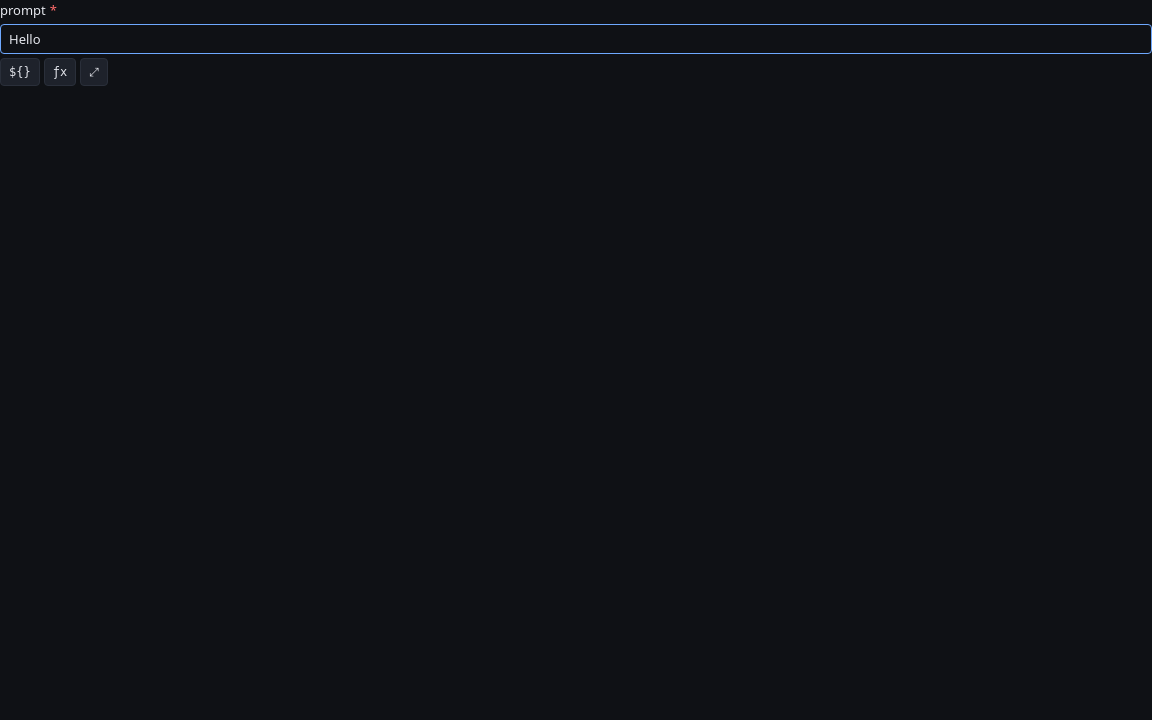
Test case: ExpressionEditor — ⤢ on a config field (#1694 OR42 F10) › Cancel and Escape discard the draft
The width and height of the screenshot is (1152, 720).
Click the button named "in the editor". click: point(94, 72)
box: [80,58,108,86]
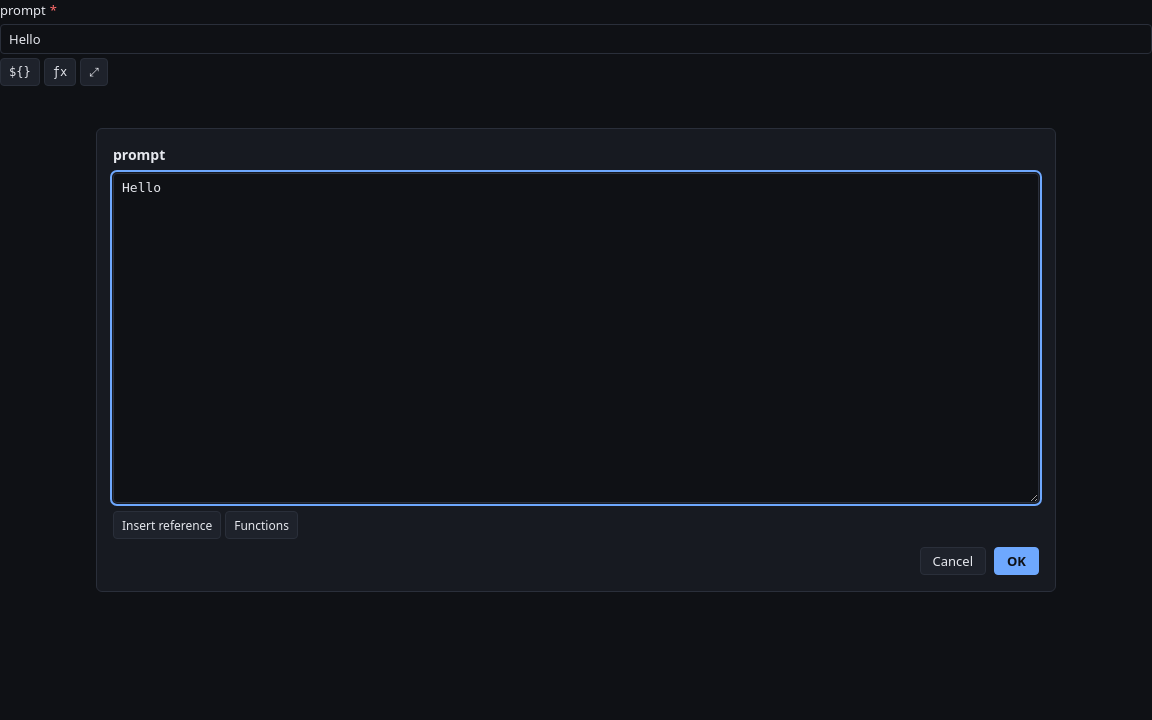
Replace the text in the text box labelled "prompt" with "gone". click: point(576, 338)
box: [113,173,1039,503]
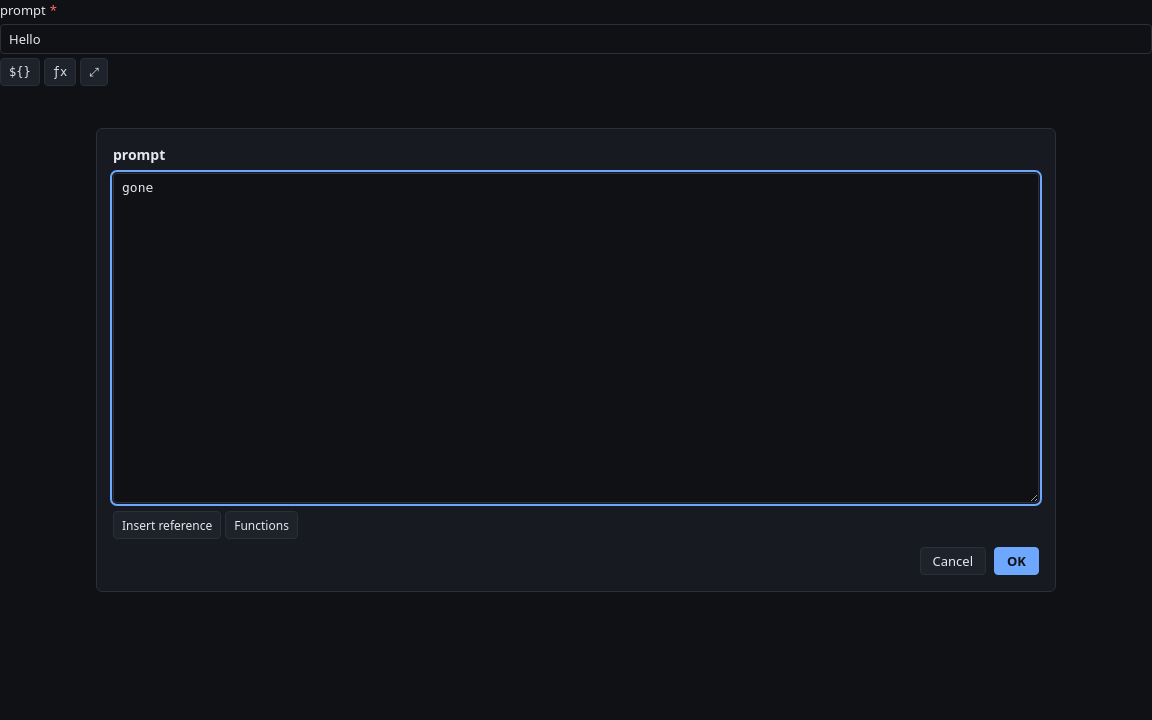
Click the button "Cancel". click: point(953, 561)
box: [920,547,986,575]
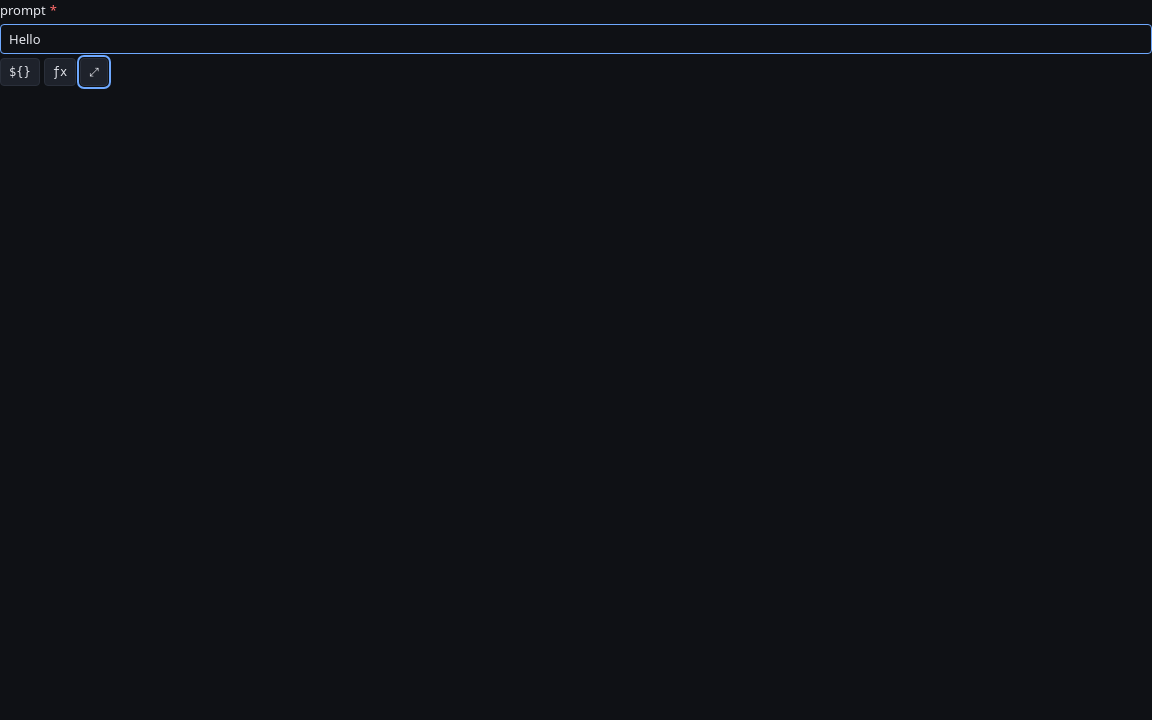
Now the dialog is gone
Click the button named "in the editor". click: point(94, 72)
box: [80,58,108,86]
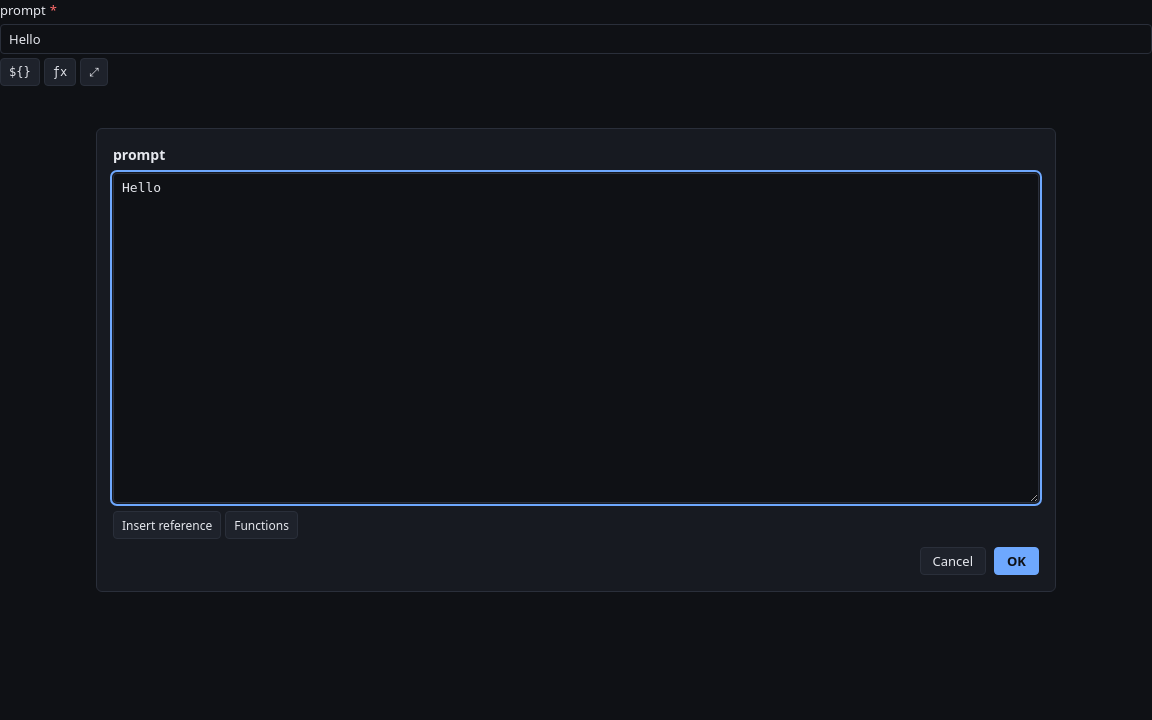
Now the text box labelled "prompt" holds "Hello"
Replace the text in the text box labelled "prompt" with "gone too". click: point(576, 338)
box: [113,173,1039,503]
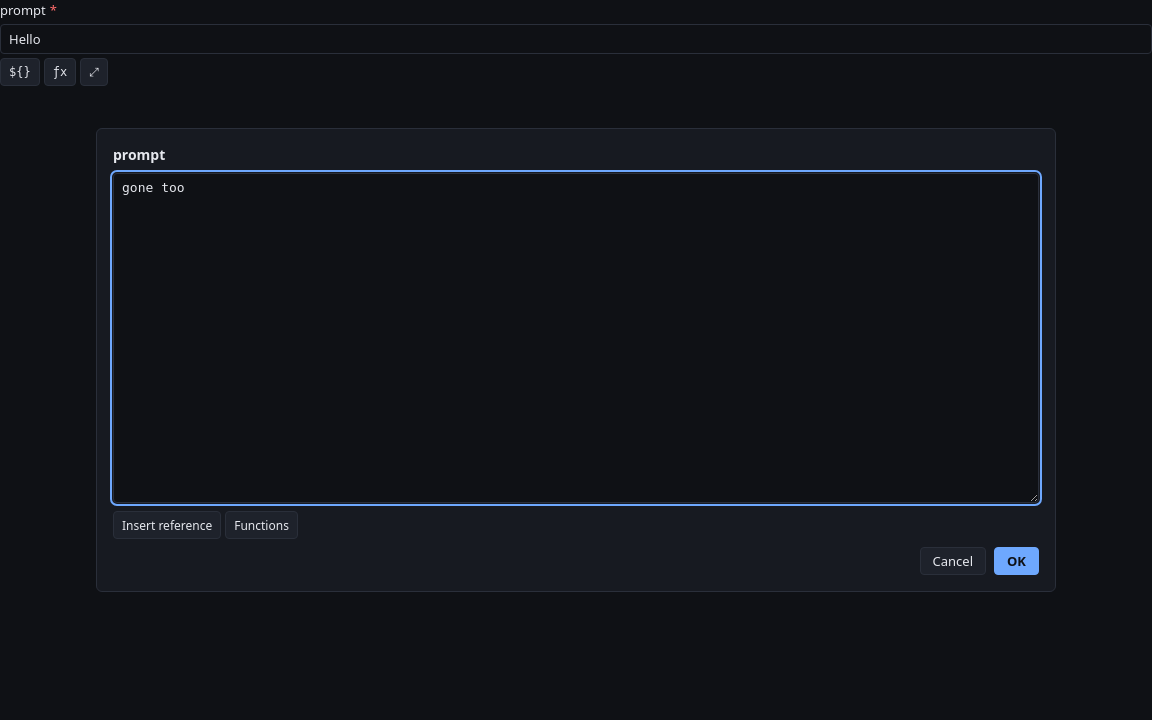
Press Escape in the text box labelled "prompt", box [113,173,1039,503]
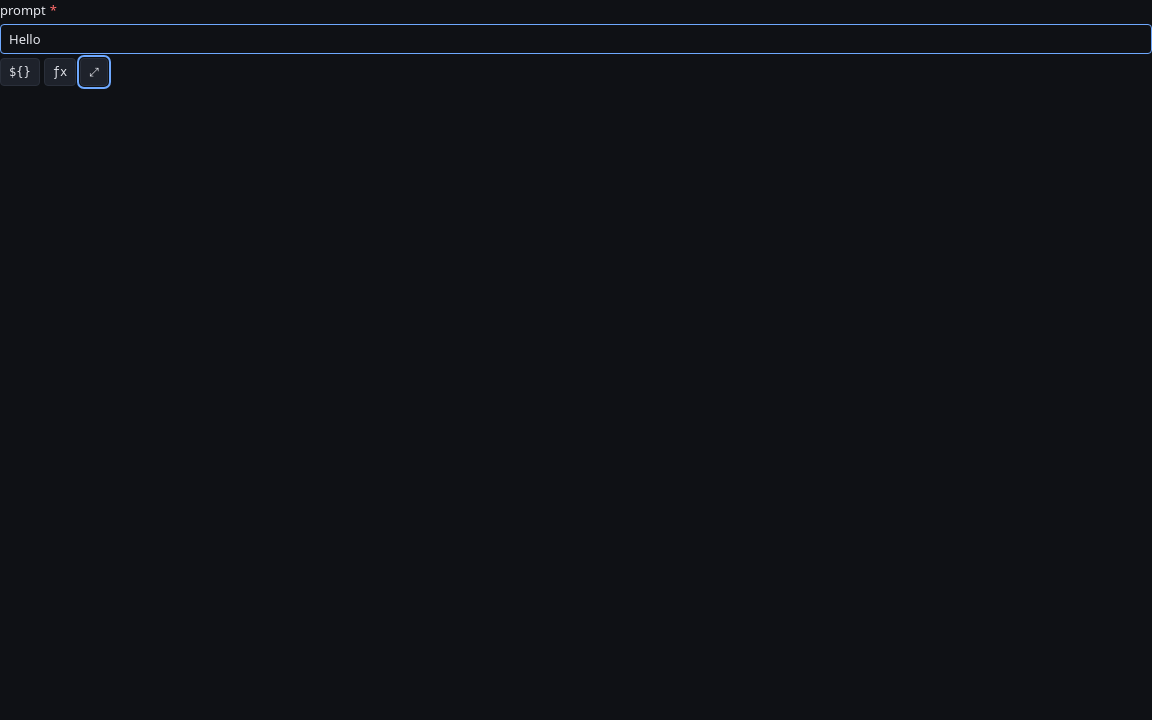
Now the dialog is gone
